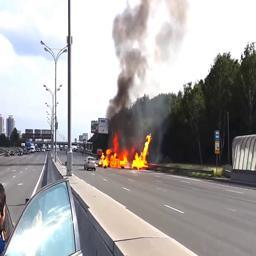fire: (98, 134, 152, 168)
